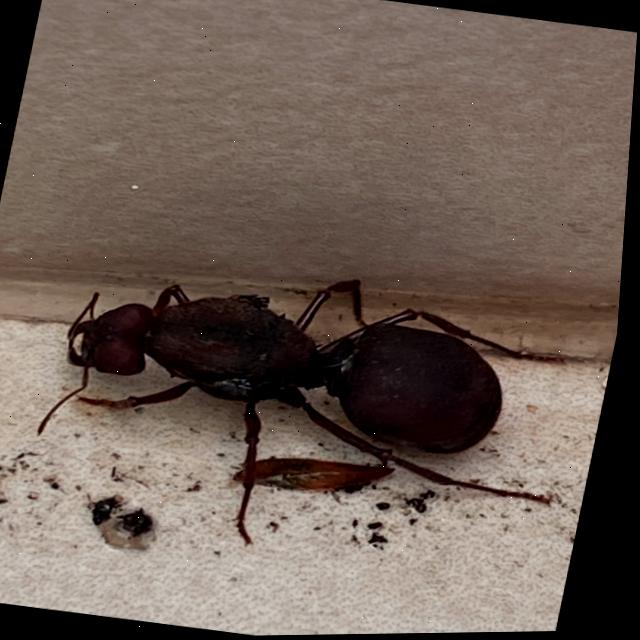Alive-Female-Dealate: (22, 237, 603, 593)
